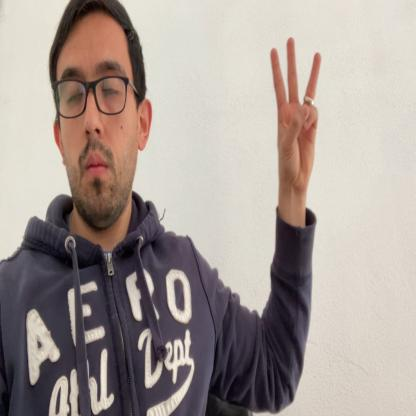W: (270, 37, 320, 199)
